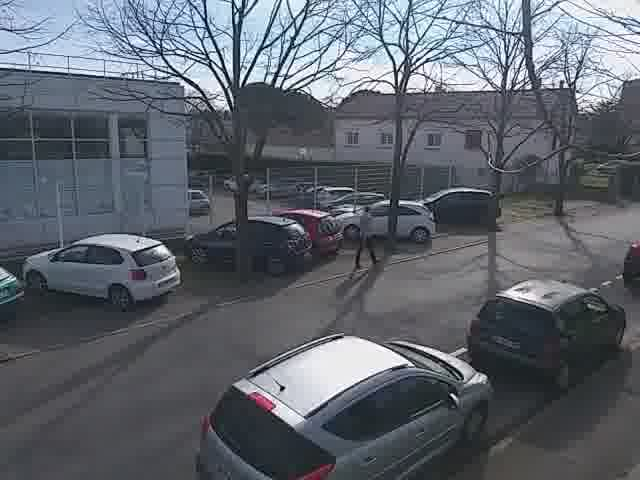persona: (351, 196, 381, 274)
